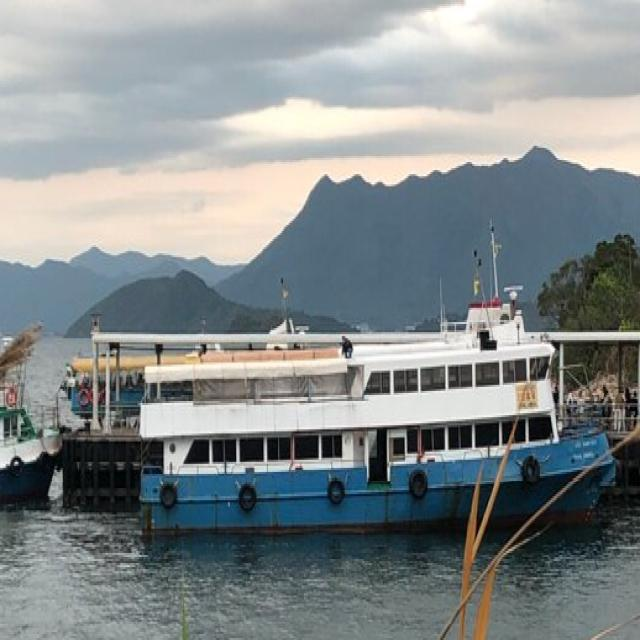passenger ship: (101, 291, 610, 551)
